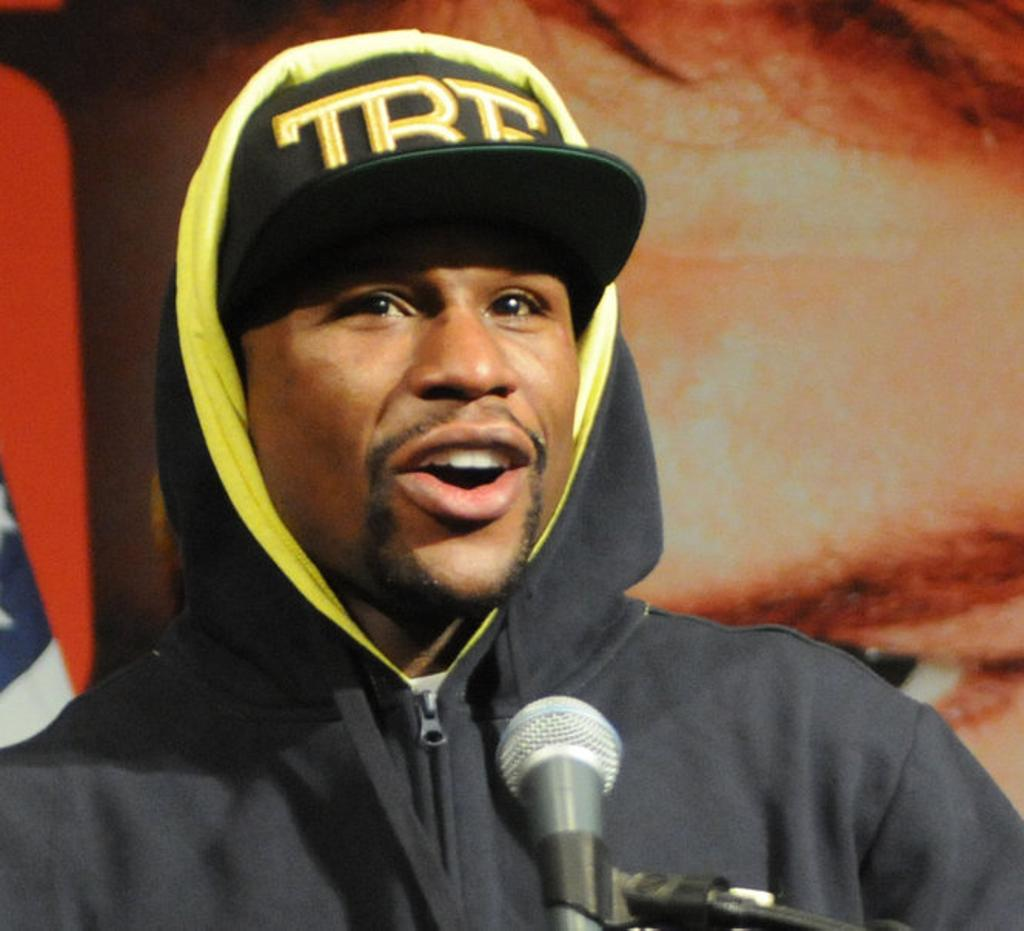face: (252, 156, 576, 610)
